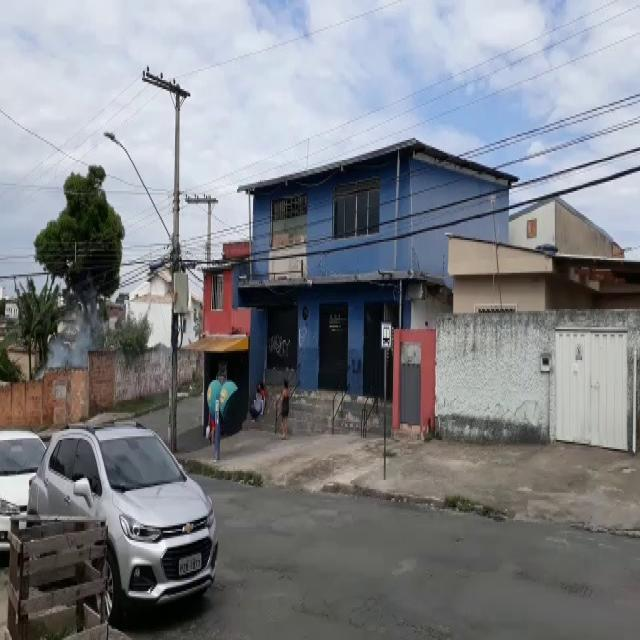Smoke: (44, 302, 101, 374)
